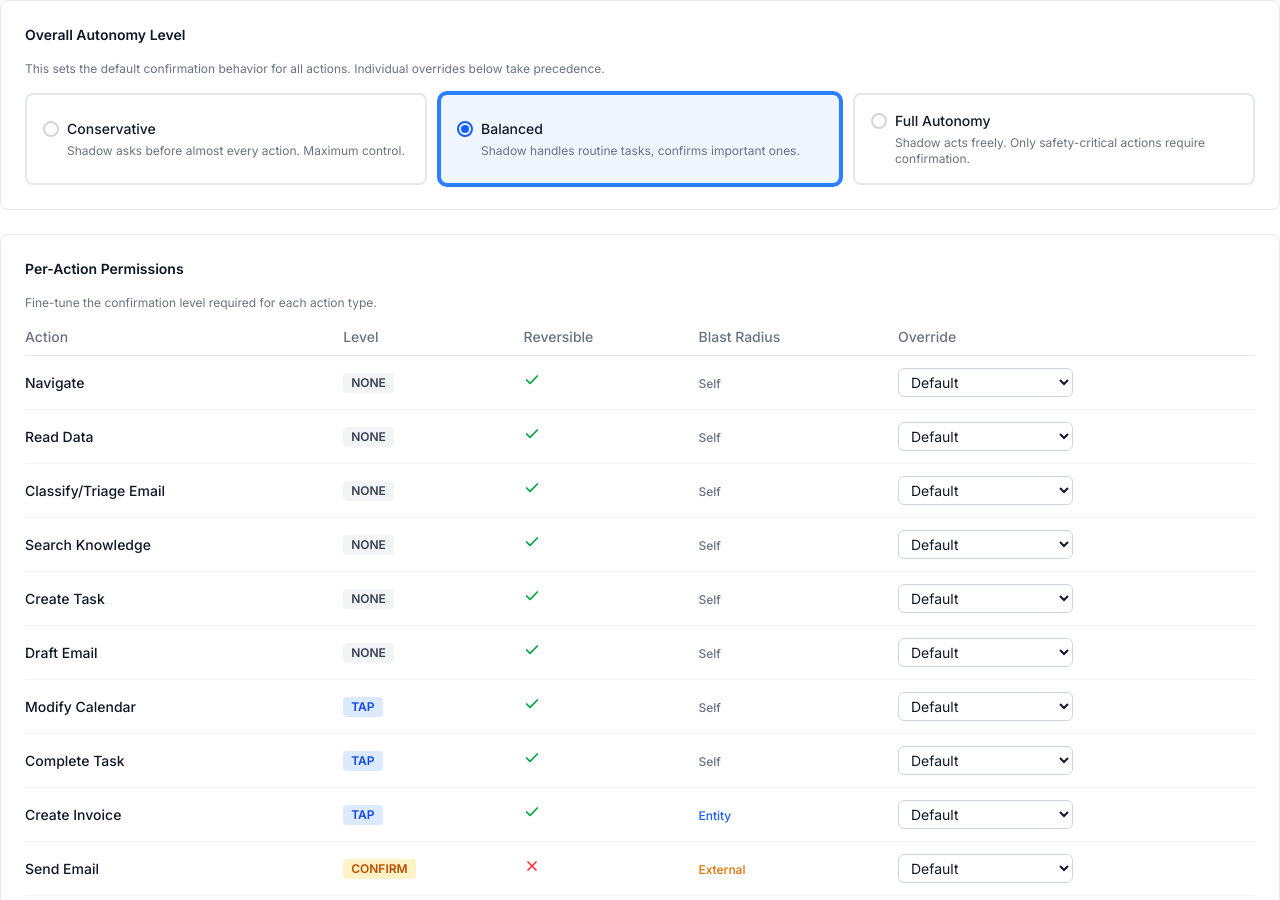
Test case: Permissions Tab Enhancements › shows autonomy level preview when switching levels
Default is 'balanced'. Click 'Conservative' to trigger preview.
Click the text "Conservative" at (111, 129), box [67,119,156,139]
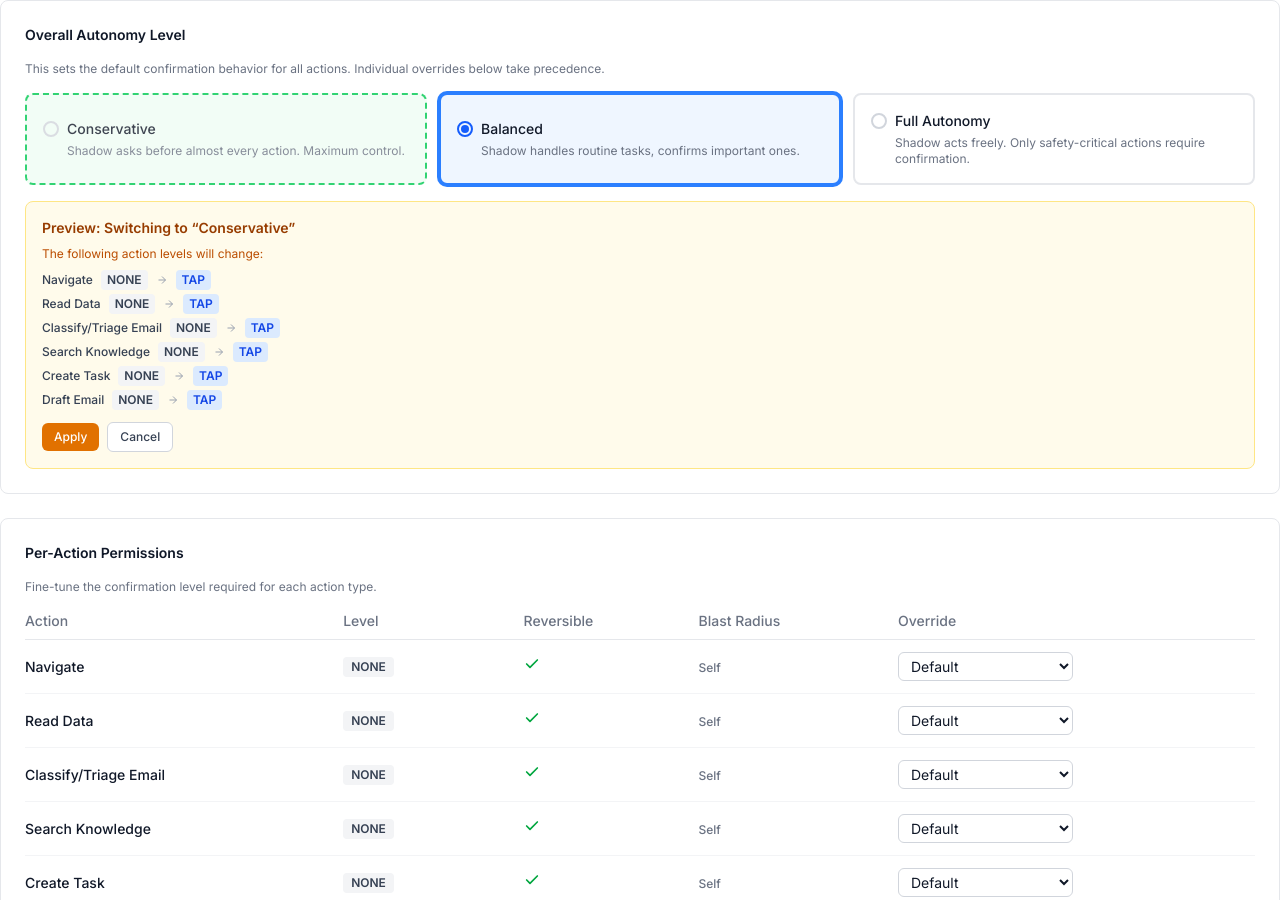
expect the heading "Preview: Switching to “Conservative”" is shown: met, box [42,219,295,236]
expect the text "The following action levels will change:" is shown: met, box [42,246,263,261]
